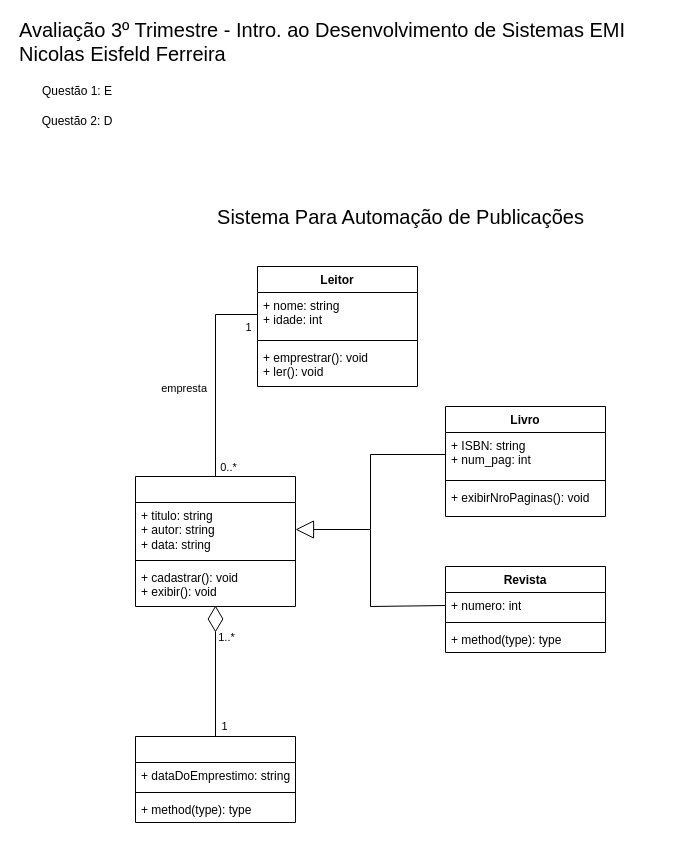
The diagram is 683 pixels wide and 842 high, and some of its shapes have lost their labels. The box of each missing label's shape, as (x1, y1, x2, y2) in pixels:
Empréstimo: (134, 736, 296, 822)
Publicações: (134, 476, 296, 606)
